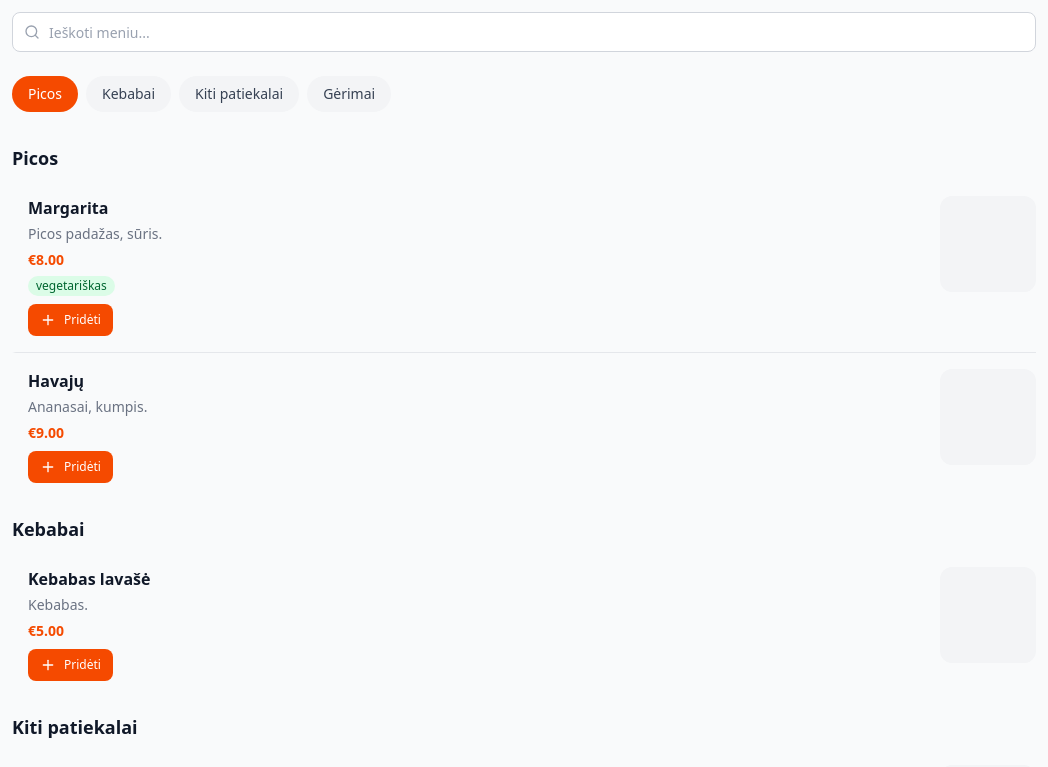
Test: MenuList › no results message when no match
The image size is (1048, 767).
Expected: the heading "Margarita" is shown, [28, 197, 108, 219]
In the field with placeholder "Ieškoti meniu...": (524,32) [12, 12, 1036, 52], type "xyzabc"
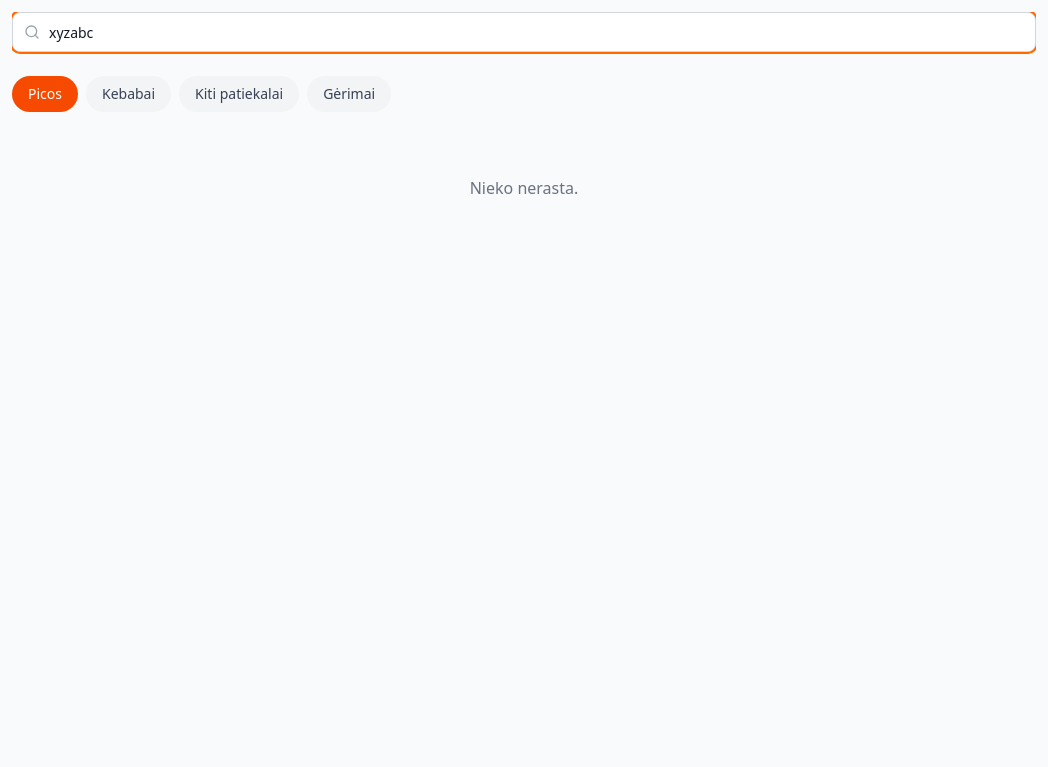
Expected: the text "Nieko nerasta." is shown, [470, 177, 578, 199]
